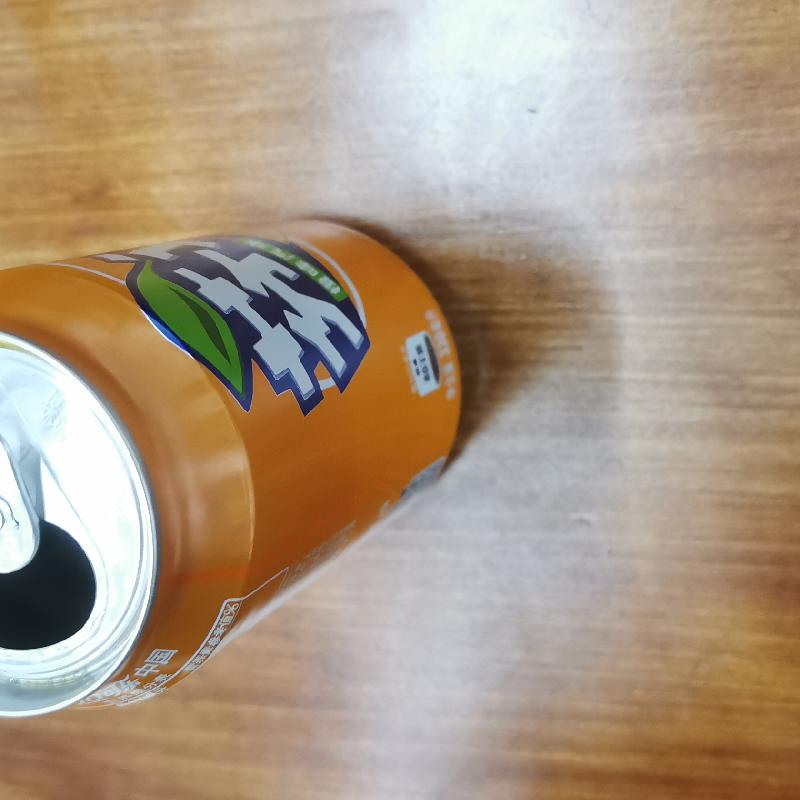cans: (0, 204, 473, 736)
